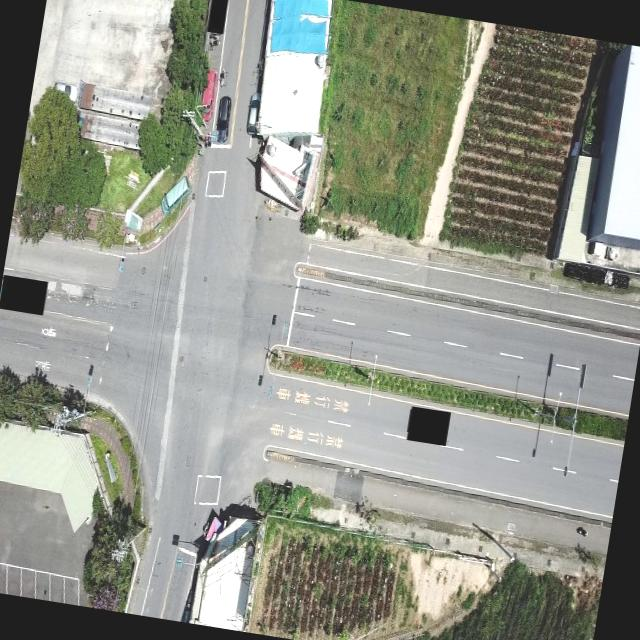car: (196, 66, 220, 122), (211, 94, 235, 145), (244, 92, 264, 136)
